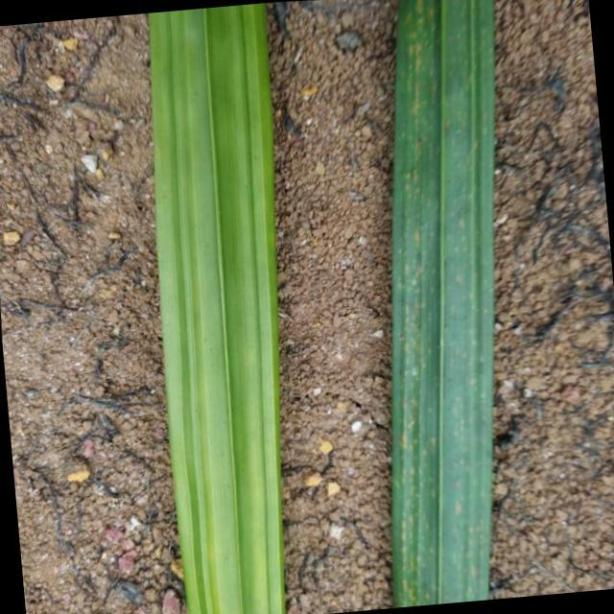nitrogen: (141, 0, 286, 614), (387, 0, 494, 608)
